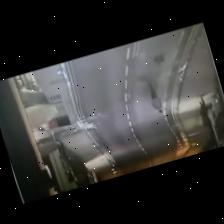person: (148, 81, 162, 112)
